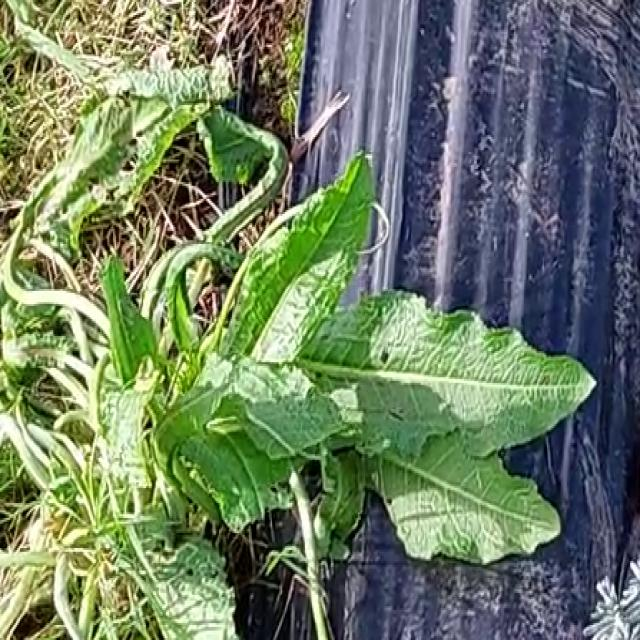organic waste: (49, 32, 626, 621)
